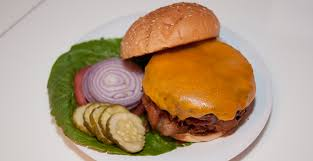hamburger: (138, 20, 256, 143)
